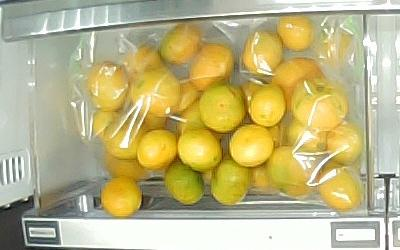tangerine: (198, 84, 247, 132), (227, 125, 275, 166), (176, 130, 222, 172), (104, 117, 147, 160), (101, 175, 142, 218), (211, 159, 248, 206), (137, 129, 178, 170), (164, 163, 204, 205), (249, 84, 285, 126), (104, 152, 149, 181)
tangerine_vinyl: (273, 58, 327, 113), (291, 79, 348, 131), (269, 146, 323, 197), (131, 68, 178, 116), (319, 161, 361, 212), (189, 44, 233, 91), (87, 61, 128, 110), (242, 31, 284, 76), (160, 24, 200, 63), (277, 15, 315, 51), (327, 126, 362, 165), (124, 47, 162, 79)
